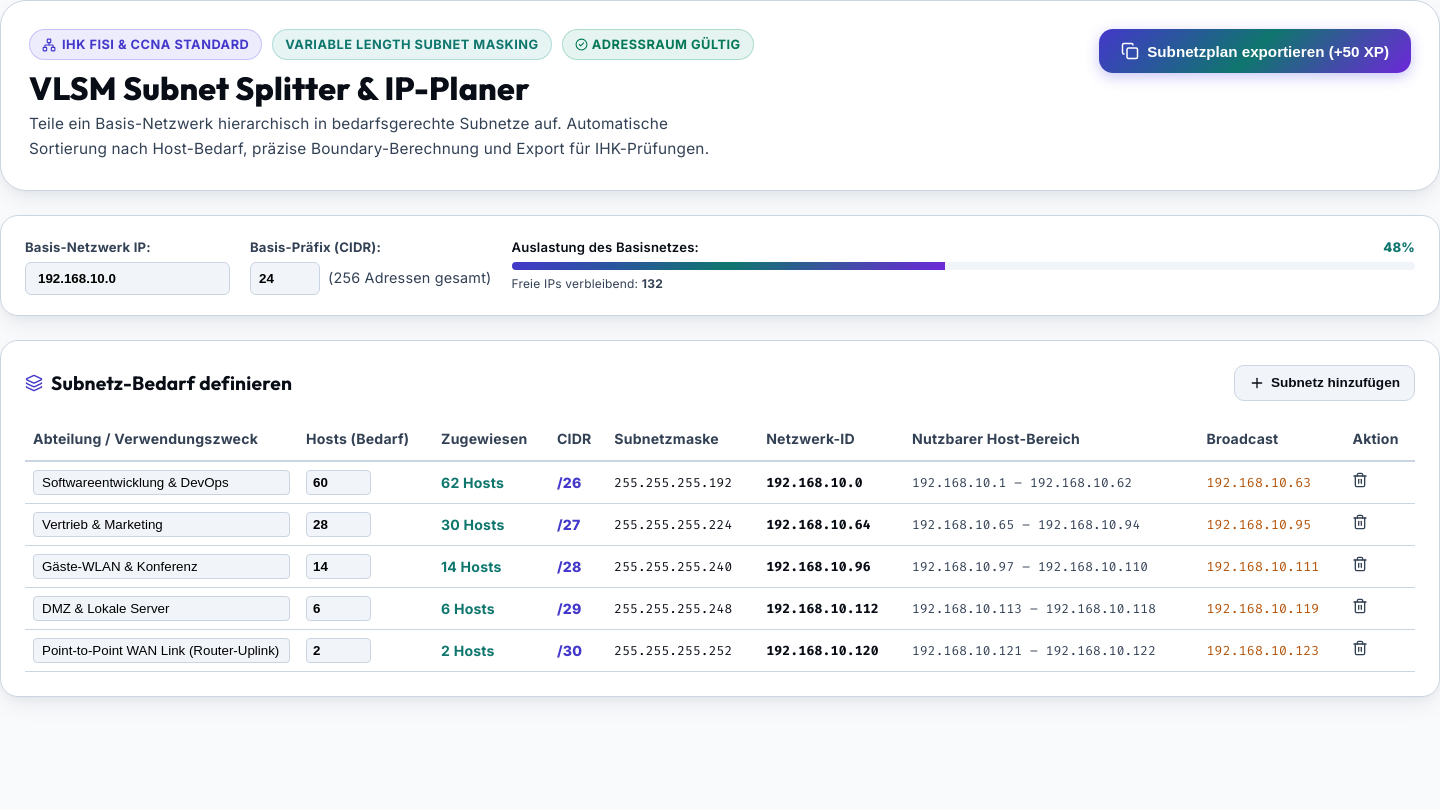
VlsmSubnetLab Unit Tests › fügt ein neues Subnetz hinzu und aktualisiert den Adressbedarf
This screenshot has width=1440, height=810.
Click the button "Subnetz hinzufügen" at (1324, 383), box x1=1234 y1=365 x2=1415 y2=401
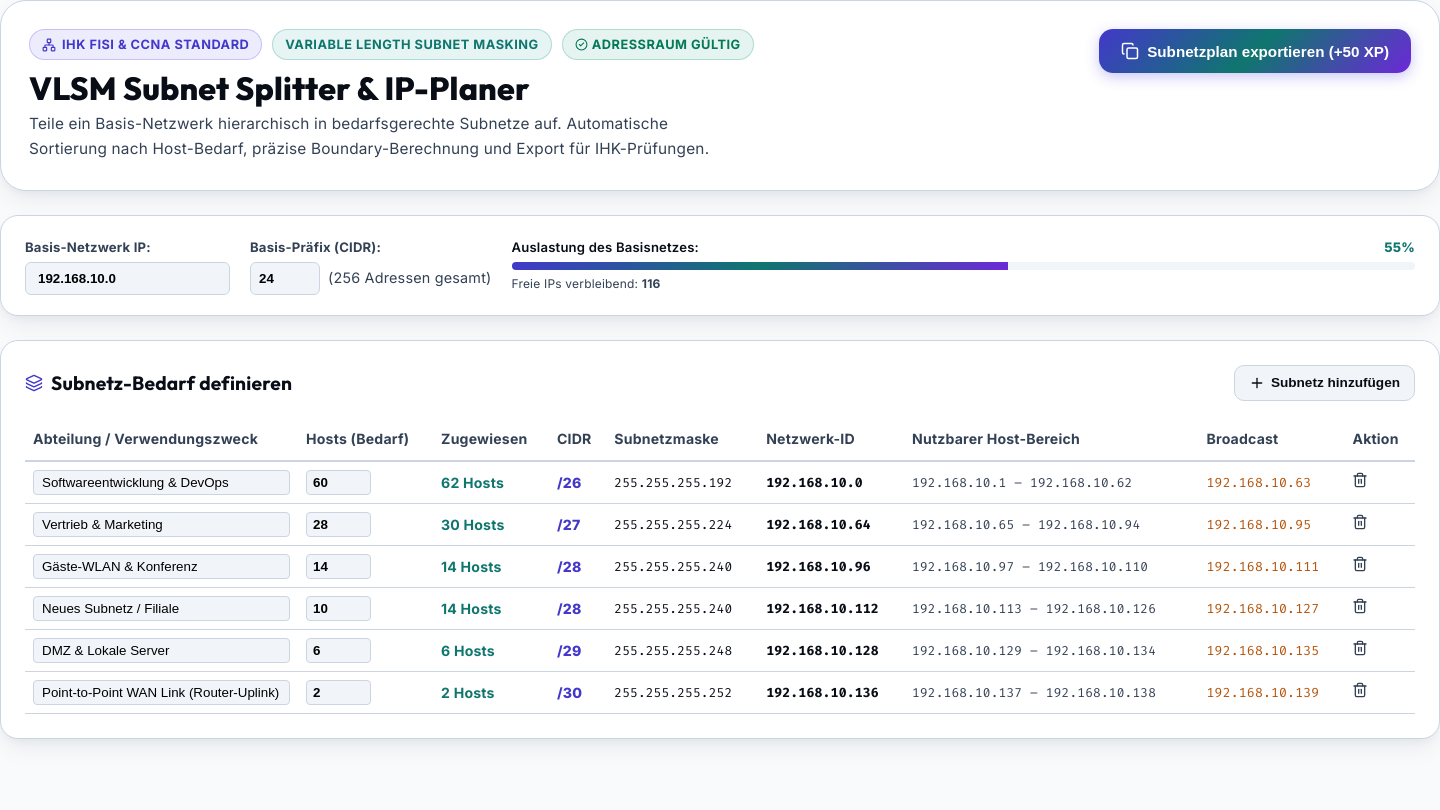
Result: the field showing "Neues Subnetz / Filiale" in the row of "192.168.10.112" is shown at x1=33 y1=596 x2=290 y2=621
